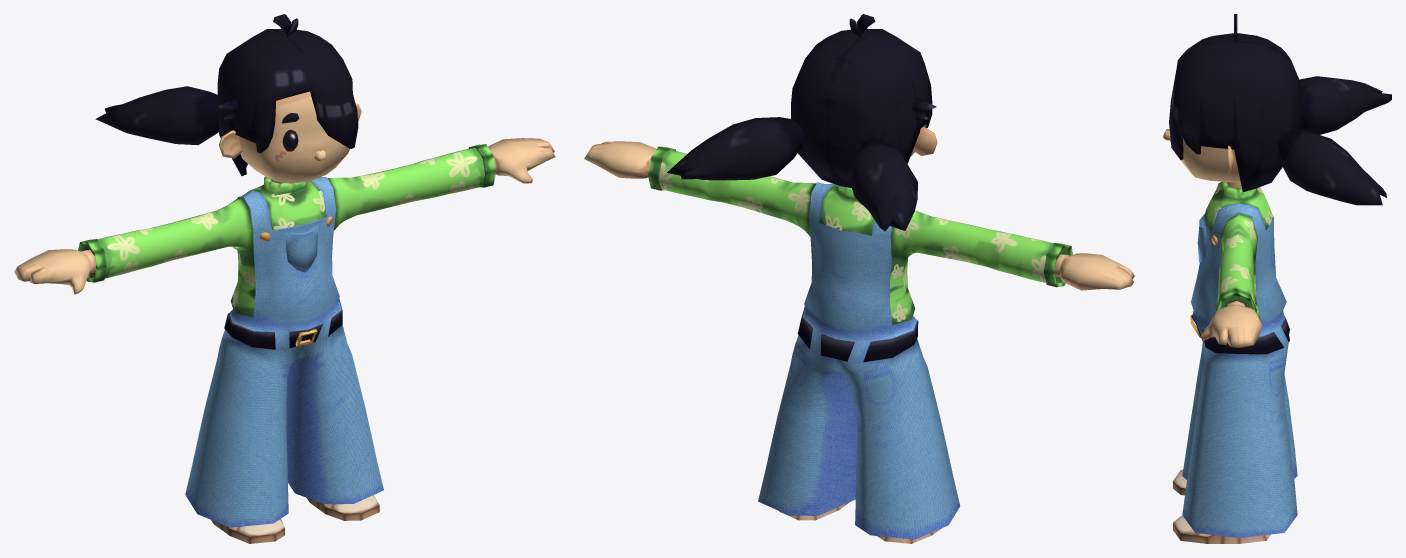
The model's file is Chibi_Protagonista.fbx.
The picture shows the model from 3 angles, left to right: view 1: azimuth 30°, elevation 25°; view 2: azimuth 150°, elevation 25°; view 3: azimuth 270°, elevation 25°; orthographic projection. The views are drawn at different scales.
Parts seen in each view (by area): view 1: ProtagonistaChibi; view 2: ProtagonistaChibi; view 3: ProtagonistaChibi.
Boxes of the visible parts, x1,y1,x2,y2 form: ProtagonistaChibi: [14, 14, 555, 543]; ProtagonistaChibi: [584, 14, 1134, 543]; ProtagonistaChibi: [1163, 14, 1391, 543].
Bounding box in the file's own units: 186 × 164 × 69.32.
Materials: 1 (1 with a texture image).
